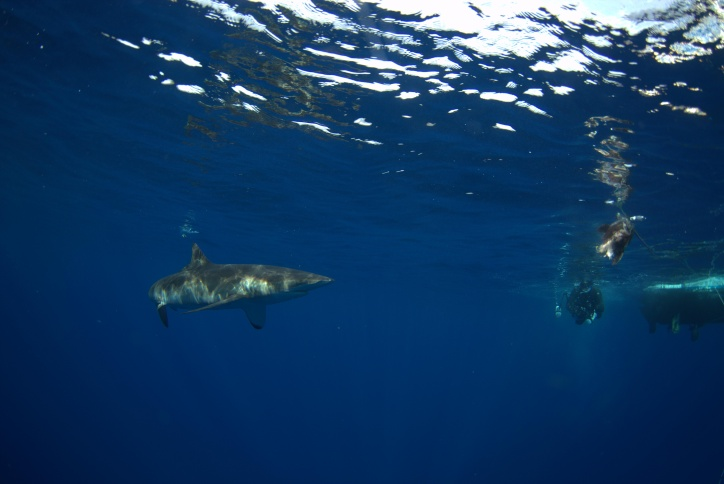Sedoso: (144, 233, 346, 340)
